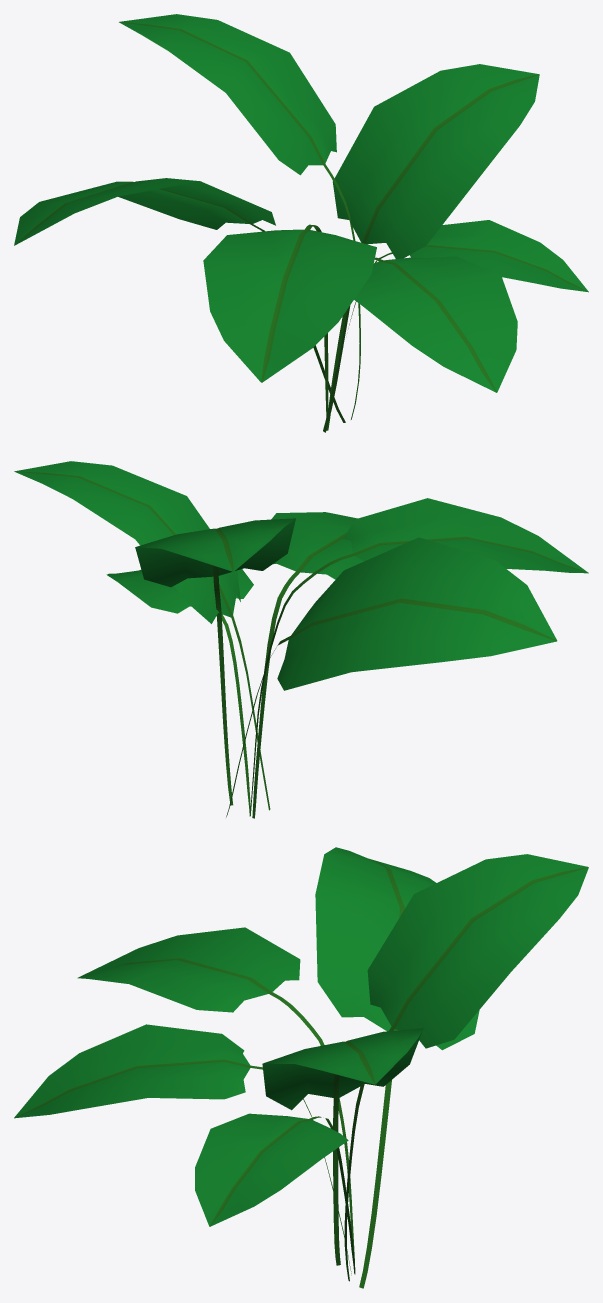
File: SM_Medium_Plant_C.fbx
The picture shows the model from 3 angles, top to bottom: view 1: azimuth 30°, elevation 25°; view 2: azimuth 150°, elevation 25°; view 3: azimuth 270°, elevation 25°; orthographic projection. The views are drawn at different scales.
Visible parts, largest first — view 1: SM_Medium_Plant_C.001; view 2: SM_Medium_Plant_C.001; view 3: SM_Medium_Plant_C.001.
Part boxes in pixels (x1,y1,x2,y2): SM_Medium_Plant_C.001: [14, 14, 588, 432]; SM_Medium_Plant_C.001: [14, 461, 588, 818]; SM_Medium_Plant_C.001: [14, 847, 588, 1288].
Size of the model in its own units: 296 by 268 by 192.
